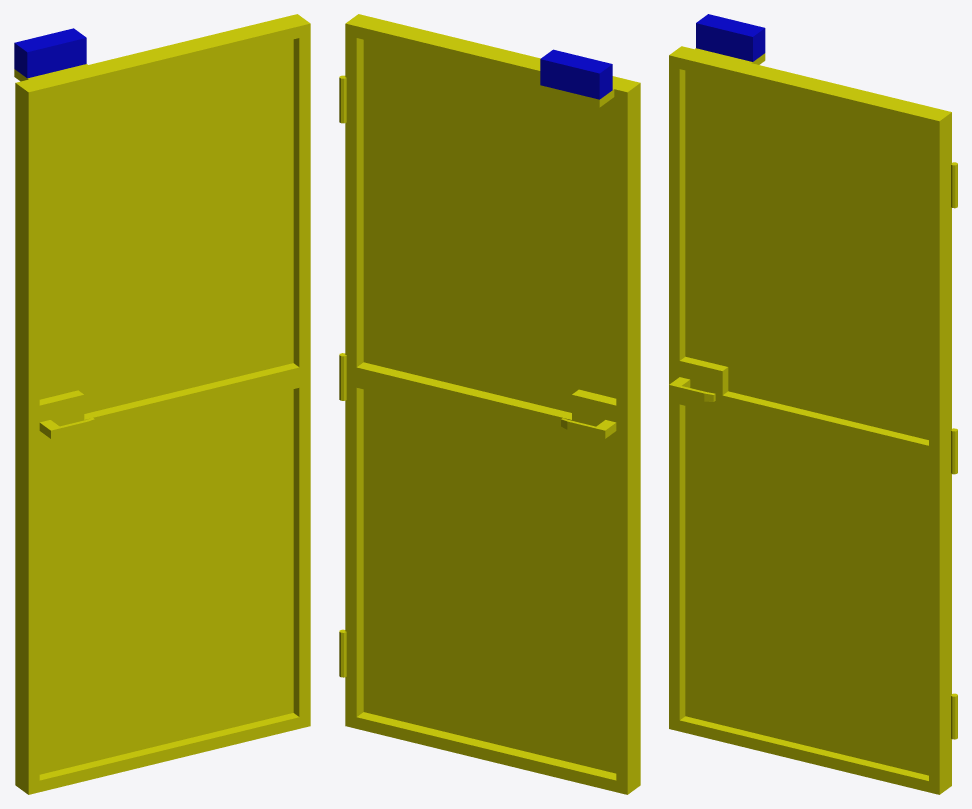
The model's file is Fence Door.fbx.
3 renders of one model, left to right at view 1: azimuth 30°, elevation 25°; view 2: azimuth 150°, elevation 25°; view 3: azimuth 330°, elevation 25°, orthographic. The views are drawn at different scales.
Visible parts, largest first — view 1: Cube.003; view 2: Cube.003; view 3: Cube.003.
Part boxes in pixels (x1,y1,x2,y2): Cube.003: (14,14,310,794); Cube.003: (339,14,640,794); Cube.003: (669,14,957,794).
Size of the model in its own units: 220 by 533 by 51.38.
